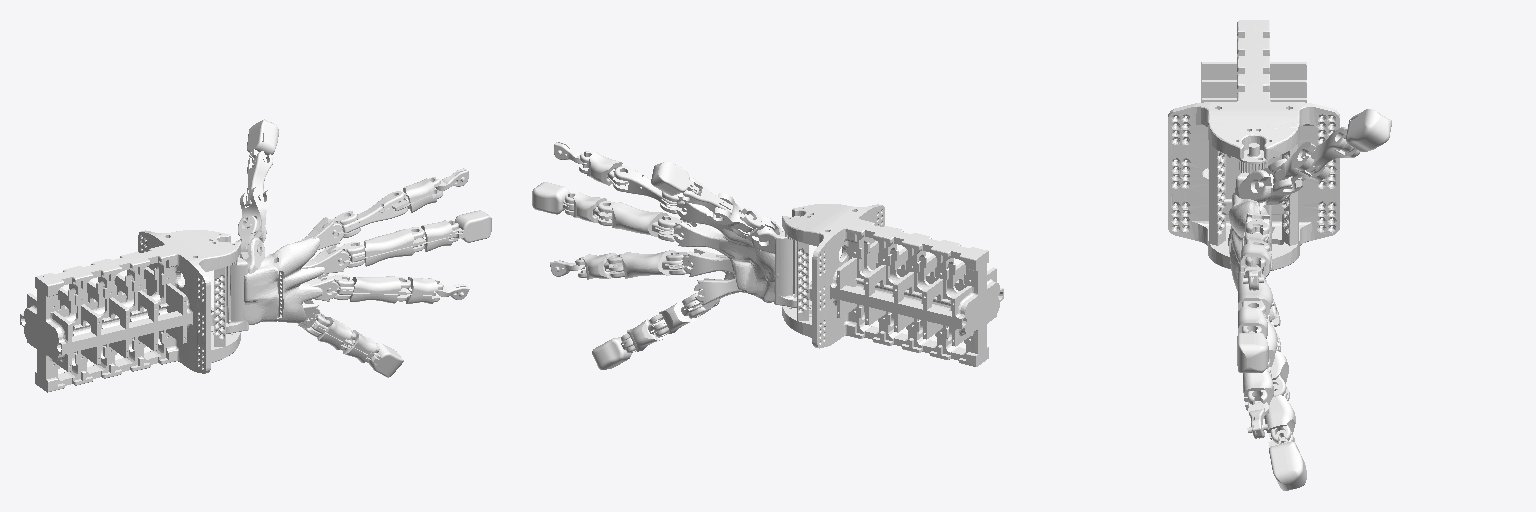
--- What the picture shows (computed from the rendered views, not written in the file) ---
Views: 3 orthographic renders of the robot side by side, from view 1: azimuth 30°, elevation 25°; view 2: azimuth 150°, elevation 25°; view 3: azimuth 270°, elevation 25°.
Robot: converted_robot — 57 links, 56 joints (21 revolute, 35 fixed); root link world; default pose: every joint at zero.
Links seen in each view (by area): view 1: tower, palm, middle_pp, ring_pp, index_mp, index_pp, middle_dp, thumb_dp, middle_mp, thumb_pp, ring_mp, pinky_pp (+4 smaller); view 2: tower, palm, middle_pp, ring_pp, thumb_dp, index_mp, middle_dp, index_pp, pinky_pp, pinky_dp, middle_mp, ring_mp (+4 smaller); view 3: tower, palm, pinky_dp, thumb_dp, middle_dp, thumb_pp, pinky_mp, thumb_mp, ring_mp, middle_pp, thumb_base, index_mp (+2 smaller).
Link boxes in pixels (box(x1,y1,x2,y2)): tower: box(20, 230, 240, 392); palm: box(217, 217, 349, 333); middle_pp: box(349, 227, 424, 266); ring_pp: box(336, 276, 410, 303); index_mp: box(392, 177, 442, 212); index_pp: box(342, 191, 407, 232); middle_dp: box(449, 210, 491, 242); thumb_dp: box(247, 119, 278, 166); middle_mp: box(413, 220, 458, 251); thumb_pp: box(240, 186, 271, 238); ring_mp: box(398, 277, 443, 303); pinky_pp: box(311, 317, 355, 350); tower: box(782, 204, 1003, 366); palm: box(673, 201, 801, 307); middle_pp: box(598, 201, 673, 236); ring_pp: box(607, 250, 683, 278); thumb_dp: box(651, 161, 698, 195); index_mp: box(579, 151, 628, 185); middle_dp: box(532, 182, 573, 214); index_pp: box(613, 166, 676, 207); pinky_pp: box(649, 298, 701, 337); pinky_dp: box(592, 337, 633, 369); middle_mp: box(565, 192, 611, 222); ring_mp: box(575, 253, 623, 279); tower: box(1168, 20, 1339, 270); palm: box(1228, 143, 1286, 326); pinky_dp: box(1268, 430, 1306, 490); thumb_dp: box(1340, 109, 1391, 152); middle_dp: box(1237, 331, 1268, 372); thumb_pp: box(1271, 142, 1330, 188); pinky_mp: box(1264, 384, 1295, 443); thumb_mp: box(1301, 127, 1360, 173); ring_mp: box(1243, 367, 1273, 415); middle_pp: box(1238, 271, 1272, 318); thumb_base: box(1255, 158, 1302, 202); index_mp: box(1240, 244, 1270, 280).
Size in the robot's own frame: 0.359 by 0.1224 by 0.1947 metres.
22 mesh visuals loaded from 22 distinct referenced files (22 binary STL).

The robot description file, URDF, robot "converted_robot":
<?xml version="1.0" ?>
<robot name="converted_robot">
   <link name="world">
      <inertial>
         <origin xyz="0.0 0.0 0.0" rpy="0.0 0.0 0.0"/>
         <mass value="0.0"/>
         <inertia ixx="0.0" iyy="0.0" izz="0.0" ixy="0" ixz="0" iyz="0"/>
      </inertial>
   </link>
   <link name="root">
      <inertial>
         <origin xyz="0.0 0.0 0.0" rpy="0.0 0.0 0.0"/>
         <mass value="0.0"/>
         <inertia ixx="0.0" iyy="0.0" izz="0.0" ixy="0" ixz="0" iyz="0"/>
      </inertial>
   </link>
   <link name="world2root_fixed_jointbody">
      <inertial>
         <origin xyz="0.0 0.0 0.0" rpy="0.0 0.0 0.0"/>
         <mass value="0.001"/>
         <inertia ixx="1e-09" iyy="1e-09" izz="1e-09" ixy="0" ixz="0" iyz="0"/>
      </inertial>
   </link>
   <joint type="fixed" name="world2root_fixed">
      <parent link="world"/>
      <child link="world2root_fixed_jointbody"/>
      <origin xyz="0.0 0.0 0.0" rpy="0.0 0.0 0.0"/>
   </joint>
   <joint type="fixed" name="world2root_fixed_offset">
      <parent link="world2root_fixed_jointbody"/>
      <child link="root"/>
      <origin xyz="-0.0 -0.0 -0.0" rpy="0.0 0.0 0.0"/>
   </joint>
   <link name="tower">
      <inertial>
         <origin xyz="0.06437901782600965 1.780279318620321e-05 -0.0003231375226686683" rpy="1.5837086827349487 -0.0029817795619724308 1.5715354932140642"/>
         <mass value="1.1686649766962816"/>
         <inertia ixx="0.0019657087041747615" iyy="0.0017826228325031161" izz="0.0006871001143970954" ixy="0" ixz="0" iyz="0"/>
      </inertial>
      <visual name="tower">
         <origin xyz="0.06437901782600965 1.780279318620321e-05 -0.0003231375226686683" rpy="1.5837086827349485 -0.0029817795619724308 1.5715354932140644"/>
         <geometry>
            <mesh filename="package://viz/models/orca2_hand/urdf/converted_tower.stl"/>
         </geometry>
         <material name="white"/>
      </visual>
   </link>
   <link name="root2tower_fixed_jointbody">
      <inertial>
         <origin xyz="0.0 0.0 0.0" rpy="0.0 0.0 0.0"/>
         <mass value="0.001"/>
         <inertia ixx="1e-09" iyy="1e-09" izz="1e-09" ixy="0" ixz="0" iyz="0"/>
      </inertial>
   </link>
   <joint type="fixed" name="root2tower_fixed">
      <parent link="root"/>
      <child link="root2tower_fixed_jointbody"/>
      <origin xyz="0.0 0.0 0.0" rpy="0.0 0.0 0.0"/>
   </joint>
   <joint type="fixed" name="root2tower_fixed_offset">
      <parent link="root2tower_fixed_jointbody"/>
      <child link="tower"/>
      <origin xyz="-0.0 -0.0 -0.0" rpy="0.0 0.0 0.0"/>
   </joint>
   <link name="palm">
      <inertial>
         <origin xyz="0.0031931161538907675 -0.0006744956817974197 -0.015141641629351442" rpy="0.11369803949052038 0.0015109688649919129 1.5487764199118472"/>
         <mass value="0.15922386065672636"/>
         <inertia ixx="0.00012041487596921829" iyy="8.59196043876551e-05" izz="4.1572032560976865e-05" ixy="0" ixz="0" iyz="0"/>
      </inertial>
      <visual name="palm_tower">
         <origin xyz="0.0031931161538907675 -0.0006744956817974197 -0.015141641629351442" rpy="0.11369803949052038 0.001510968864992135 1.5487764199118472"/>
         <geometry>
            <mesh filename="package://viz/models/orca2_hand/urdf/converted_palm_tower.stl"/>
         </geometry>
         <material name="white"/>
      </visual>
   </link>
   <link name="tower2root_jointbody">
      <inertial>
         <origin xyz="0.0 0.0 0.0" rpy="0.0 0.0 0.0"/>
         <mass value="0.001"/>
         <inertia ixx="1e-09" iyy="1e-09" izz="1e-09" ixy="0" ixz="0" iyz="0"/>
      </inertial>
   </link>
   <joint type="revolute" name="tower2root">
      <parent link="tower"/>
      <child link="tower2root_jointbody"/>
      <origin xyz="0.14400000000000007 6.085084693074894e-18 -2.8189256484623115e-17" rpy="0.0007373833650254783 1.5707963267948966 0.0"/>
      <axis xyz="0.9999999999999993 6.127748595140475e-17 6.118716649654125e-17"/>
      <limit lower="-1.3962634015954636" upper="1.3962634015954636" effort="100" velocity="100"/>
   </joint>
   <joint type="fixed" name="tower2root_offset">
      <parent link="tower2root_jointbody"/>
      <child link="palm"/>
      <origin xyz="-0.0019999999999999996 -1.0164395367051604e-20 0.04999999999999999" rpy="0.0 0.0 0.0"/>
   </joint>
   <link name="index_um">
      <inertial>
         <origin xyz="0.006732763304155957 4.001088863436687e-09 -2.0258619702217643e-05" rpy="-3.131684616200393 -1.561854856603541 -0.009908433449917098"/>
         <mass value="0.002607186033198995"/>
         <inertia ixx="1.3807074528604164e-07" iyy="1.1778104249469416e-07" izz="6.49217043247213e-08" ixy="0" ixz="0" iyz="0"/>
      </inertial>
      <visual name="index_um">
         <origin xyz="0.006732763304155957 4.001088863436687e-09 -2.0258619702217643e-05" rpy="-3.131684616200393 -1.561854856603541 -0.009908433449916876"/>
         <geometry>
            <mesh filename="package://viz/models/orca2_hand/urdf/converted_index_um.stl"/>
         </geometry>
         <material name="white"/>
      </visual>
   </link>
   <link name="index_abd_jointbody">
      <inertial>
         <origin xyz="0.0 0.0 0.0" rpy="0.0 0.0 0.0"/>
         <mass value="0.001"/>
         <inertia ixx="1e-09" iyy="1e-09" izz="1e-09" ixy="0" ixz="0" iyz="0"/>
      </inertial>
   </link>
   <joint type="revolute" name="index_abd">
      <parent link="palm"/>
      <child link="index_abd_jointbody"/>
      <origin xyz="-0.022026898291690793 0.0015684105070722376 0.035558225043043304" rpy="1.657989451174792 1.3961154673834115 -7.447055134812697e-05"/>
      <axis xyz="-1.80855330711438e-13 -2.220446049250313e-16 0.9999999999999967"/>
      <limit lower="-0.4363323129985824" upper="0.6108652381980153" effort="100" velocity="100"/>
   </joint>
   <joint type="fixed" name="index_abd_offset">
      <parent link="index_abd_jointbody"/>
      <child link="index_um"/>
      <origin xyz="-0.014399999999999979 -1.1275702593849246e-17 -4.7704895589362195e-18" rpy="0.0 0.0 0.0"/>
   </joint>
   <link name="index_pp">
      <inertial>
         <origin xyz="0.001028909009164022 -4.063769783948308e-06 0.02054690935172239" rpy="0.0004528001968630863 -0.017765403380045175 -0.030452017041297512"/>
         <mass value="0.01253208205763138"/>
         <inertia ixx="1.693790150208706e-06" iyy="1.687388366681519e-06" izz="3.6847130608302664e-07" ixy="0" ixz="0" iyz="0"/>
      </inertial>
      <visual name="index_pp">
         <origin xyz="0.001028909009164022 -4.063769783948308e-06 0.02054690935172239" rpy="0.0004528001968630863 -0.017765403380045175 -0.03045201704129752"/>
         <geometry>
            <mesh filename="package://viz/models/orca2_hand/urdf/converted_index_pp.stl"/>
         </geometry>
         <material name="white"/>
      </visual>
   </link>
   <link name="root2index_pp_jointbody">
      <inertial>
         <origin xyz="0.0 0.0 0.0" rpy="0.0 0.0 0.0"/>
         <mass value="0.001"/>
         <inertia ixx="1e-09" iyy="1e-09" izz="1e-09" ixy="0" ixz="0" iyz="0"/>
      </inertial>
   </link>
   <joint type="revolute" name="root2index_pp">
      <parent link="index_um"/>
      <child link="root2index_pp_jointbody"/>
      <origin xyz="-3.726525911802163e-14 1.5826592868386048e-13 -1.3897728001093473e-14" rpy="3.141592653571369 -1.568914097743692 -3.1415926535734324"/>
      <axis xyz="3.175237850427948e-14 -1.0000000000000018 -2.0646956366832114e-12"/>
      <limit lower="-0.17453292519943295" upper="2.007128639793479" effort="100" velocity="100"/>
   </joint>
   <joint type="fixed" name="root2index_pp_offset">
      <parent link="root2index_pp_jointbody"/>
      <child link="index_pp"/>
      <origin xyz="9.357535447968366e-19 9.360525909273759e-18 1.2460153634354755e-17" rpy="0.0 0.0 0.0"/>
   </joint>
   <link name="index_mp">
      <inertial>
         <origin xyz="0.0014457760100068154 8.307526209729058e-05 0.014984285891448386" rpy="0.030434030316509056 -0.009961283507679886 0.10995570955517174"/>
         <mass value="0.007256911934241935"/>
         <inertia ixx="4.939234421836949e-07" iyy="4.903790475873879e-07" izz="1.9645010163470517e-07" ixy="0" ixz="0" iyz="0"/>
      </inertial>
      <visual name="index_mp">
         <origin xyz="0.0014457760100068154 8.307526209729058e-05 0.014984285891448386" rpy="0.030434030316509056 -0.009961283507679886 0.10995570955517174"/>
         <geometry>
            <mesh filename="package://viz/models/orca2_hand/urdf/converted_index_mp.stl"/>
         </geometry>
         <material name="white"/>
      </visual>
   </link>
   <link name="index_pp2mp_jointbody">
      <inertial>
         <origin xyz="0.0 0.0 0.0" rpy="0.0 0.0 0.0"/>
         <mass value="0.001"/>
         <inertia ixx="1e-09" iyy="1e-09" izz="1e-09" ixy="0" ixz="0" iyz="0"/>
      </inertial>
   </link>
   <joint type="revolute" name="index_pp2mp">
      <parent link="index_pp"/>
      <child link="index_pp2mp_jointbody"/>
      <origin xyz="-4.092895317840004e-17 -2.263553056912248e-17 0.039999999999999904" rpy="-1.387778780781445e-17 -2.220446049250313e-16 2.311115933264683e-33"/>
      <axis xyz="1.0547118733938987e-15 -0.9999999999999989 -9.020562075079397e-16"/>
      <limit lower="0.0" upper="2.0943951023931953" effort="100" velocity="100"/>
   </joint>
   <joint type="fixed" name="index_pp2mp_offset">
      <parent link="index_pp2mp_jointbody"/>
      <child link="index_mp"/>
      <origin xyz="1.9461750163187066e-17 3.195966925249782e-17 5.1027793401258624e-17" rpy="0.0 0.0 0.0"/>
   </joint>
   <link name="index_dp">
      <inertial>
         <origin xyz="0.010962775970379684 -0.0009207287499492076 0.007029609248376971" rpy="0.0038044439296488486 0.009595151767842092 1.742992635465892"/>
         <mass value="0.009142007854382036"/>
         <inertia ixx="7.030009842186787e-07" iyy="6.96709959144247e-07" izz="2.9942656232517023e-07" ixy="0" ixz="0" iyz="0"/>
      </inertial>
      <visual name="index_dp">
         <origin xyz="0.010962775970379684 -0.0009207287499492076 0.007029609248376971" rpy="0.0038044439296489596 0.009595151767842092 1.7429926354658922"/>
         <geometry>
            <mesh filename="package://viz/models/orca2_hand/urdf/converted_index_dp.stl"/>
         </geometry>
         <material name="white"/>
      </visual>
   </link>
   <link name="index_mp2dp_jointbody">
      <inertial>
         <origin xyz="0.0 0.0 0.0" rpy="0.0 0.0 0.0"/>
         <mass value="0.001"/>
         <inertia ixx="1e-09" iyy="1e-09" izz="1e-09" ixy="0" ixz="0" iyz="0"/>
      </inertial>
   </link>
   <joint type="revolute" name="index_mp2dp">
      <parent link="index_mp"/>
      <child link="index_mp2dp_jointbody"/>
      <origin xyz="0.0009999999999999601 -4.683753385137379e-17 0.028000000000000004" rpy="-6.661338147750939e-16 8.881784197001252e-16 1.5707963267948974"/>
      <axis xyz="-0.9999999999999998 -1.1796119636642288e-16 -1.946657895643411e-15"/>
      <limit lower="0.0" upper="1.3089969389957472" effort="100" velocity="100"/>
   </joint>
   <joint type="fixed" name="index_mp2dp_offset">
      <parent link="index_mp2dp_jointbody"/>
      <child link="index_dp"/>
      <origin xyz="-0.01099999999999995 7.281470469246501e-06 0.009007281470469294" rpy="0.0 0.0 0.0"/>
   </joint>
   <link name="index_fingertip">
      <inertial>
         <origin xyz="0.0 0.02 -0.001306" rpy="0.0 0.0 0.0"/>
         <mass value="0.0"/>
         <inertia ixx="0.0" iyy="0.0" izz="0.0" ixy="0" ixz="0" iyz="0"/>
      </inertial>
   </link>
   <link name="index_dp2index_fingertip_fixed_jointbody">
      <inertial>
         <origin xyz="0.0 0.0 0.0" rpy="0.0 0.0 0.0"/>
         <mass value="0.001"/>
         <inertia ixx="1e-09" iyy="1e-09" izz="1e-09" ixy="0" ixz="0" iyz="0"/>
      </inertial>
   </link>
   <joint type="fixed" name="index_dp2index_fingertip_fixed">
      <parent link="index_dp"/>
      <child link="index_dp2index_fingertip_fixed_jointbody"/>
      <origin xyz="0.0 0.02 -0.001306" rpy="0.0 0.0 0.0"/>
   </joint>
   <joint type="fixed" name="index_dp2index_fingertip_fixed_offset">
      <parent link="index_dp2index_fingertip_fixed_jointbody"/>
      <child link="index_fingertip"/>
      <origin xyz="-0.0 -0.0 -0.0" rpy="0.0 0.0 0.0"/>
   </joint>
   <link name="pinky_um">
      <inertial>
         <origin xyz="0.006732763304155957 4.001088863436687e-09 -2.0258619702217643e-05" rpy="-3.131684616200393 -1.561854856603541 -0.009908433449917098"/>
         <mass value="0.002607186033198995"/>
         <inertia ixx="1.3807074528604164e-07" iyy="1.1778104249469416e-07" izz="6.49217043247213e-08" ixy="0" ixz="0" iyz="0"/>
      </inertial>
      <visual name="pinky_um">
         <origin xyz="0.006732763304155957 4.001088863436687e-09 -2.0258619702217643e-05" rpy="-3.131684616200393 -1.561854856603541 -0.009908433449916876"/>
         <geometry>
            <mesh filename="package://viz/models/orca2_hand/urdf/converted_pinky_um.stl"/>
         </geometry>
         <material name="white"/>
      </visual>
   </link>
   <link name="pinky_abd_jointbody">
      <inertial>
         <origin xyz="0.0 0.0 0.0" rpy="0.0 0.0 0.0"/>
         <mass value="0.001"/>
         <inertia ixx="1e-09" iyy="1e-09" izz="1e-09" ixy="0" ixz="0" iyz="0"/>
      </inertial>
   </link>
   <joint type="revolute" name="pinky_abd">
      <parent link="palm"/>
      <child link="pinky_abd_jointbody"/>
      <origin xyz="0.04123255613565277 0.005128234212297354 0.015805277968103645" rpy="-1.5799161189708797 0.9071946146015462 -2.8781819803477346"/>
      <axis xyz="-1.942890293094024e-16 6.661338147750939e-16 -1.0000000000000004"/>
      <limit lower="-0.6108652381980153" upper="0.4363323129985824" effort="100" velocity="100"/>
   </joint>
   <joint type="fixed" name="pinky_abd_offset">
      <parent link="pinky_abd_jointbody"/>
      <child link="pinky_um"/>
      <origin xyz="-0.014400000000000012 2.211772431870429e-17 -1.5178830414797062e-17" rpy="0.0 0.0 0.0"/>
   </joint>
   <link name="pinky_pp">
      <inertial>
         <origin xyz="0.0011081239410495802 -6.835791393050442e-07 0.016046375623555865" rpy="0.0013778191143609397 -0.0356616612010936 -0.04982590931331974"/>
         <mass value="0.009193689280540233"/>
         <inertia ixx="8.415561519046092e-07" iyy="8.352213456647945e-07" izz="2.602923288447009e-07" ixy="0" ixz="0" iyz="0"/>
      </inertial>
      <visual name="pinky_pp">
         <origin xyz="0.0011081239410495802 -6.835791393050442e-07 0.016046375623555865" rpy="0.0013778191143609397 -0.0356616612010936 -0.04982590931331974"/>
         <geometry>
            <mesh filename="package://viz/models/orca2_hand/urdf/converted_pinky_pp.stl"/>
         </geometry>
         <material name="white"/>
      </visual>
   </link>
   <link name="root2pinky_pp_jointbody">
      <inertial>
         <origin xyz="0.0 0.0 0.0" rpy="0.0 0.0 0.0"/>
         <mass value="0.001"/>
         <inertia ixx="1e-09" iyy="1e-09" izz="1e-09" ixy="0" ixz="0" iyz="0"/>
      </inertial>
   </link>
   <joint type="revolute" name="root2pinky_pp">
      <parent link="pinky_um"/>
      <child link="root2pinky_pp_jointbody"/>
      <origin xyz="3.525016089636266e-17 -3.1056381288997515e-19 2.7390067716395695e-17" rpy="3.141592653589439 -1.5692446522906773 -3.141592653589439"/>
      <axis xyz="-3.885780586188048e-16 -1.0000000000000004 -2.636779683484747e-16"/>
      <limit lower="-0.17453292519943295" upper="2.007128639793479" effort="100" velocity="100"/>
   </joint>
   <joint type="fixed" name="root2pinky_pp_offset">
      <parent link="root2pinky_pp_jointbody"/>
      <child link="pinky_pp"/>
      <origin xyz="-3.833184058085544e-18 7.922763782835389e-18 1.4973823299787632e-17" rpy="0.0 0.0 0.0"/>
   </joint>
   <link name="pinky_mp">
      <inertial>
         <origin xyz="0.0014457760100068154 8.307526209729058e-05 0.014984285891448386" rpy="0.030434030316509056 -0.009961283507679886 0.10995570955517174"/>
         <mass value="0.007256911934241935"/>
         <inertia ixx="4.939234421836949e-07" iyy="4.903790475873879e-07" izz="1.9645010163470517e-07" ixy="0" ixz="0" iyz="0"/>
      </inertial>
      <visual name="pinky_mp">
         <origin xyz="0.0014457760100068154 8.307526209729058e-05 0.014984285891448386" rpy="0.030434030316509056 -0.009961283507679886 0.10995570955517174"/>
         <geometry>
            <mesh filename="package://viz/models/orca2_hand/urdf/converted_pinky_mp.stl"/>
         </geometry>
         <material name="white"/>
      </visual>
   </link>
   <link name="pinky_pp2mp_jointbody">
      <inertial>
         <origin xyz="0.0 0.0 0.0" rpy="0.0 0.0 0.0"/>
         <mass value="0.001"/>
         <inertia ixx="1e-09" iyy="1e-09" izz="1e-09" ixy="0" ixz="0" iyz="0"/>
      </inertial>
   </link>
   <joint type="revolute" name="pinky_pp2mp">
      <parent link="pinky_pp"/>
      <child link="pinky_pp2mp_jointbody"/>
      <origin xyz="-2.02538279309526e-17 -3.2474578016063654e-17 0.03000000000000008" rpy="-5.551115123125783e-17 0.0 0.0"/>
      <axis xyz="-4.440892098500626e-16 -1.0000000000000004 -8.326672684688674e-17"/>
      <limit lower="0.0" upper="2.0943951023931953" effort="100" velocity="100"/>
   </joint>
   <joint type="fixed" name="pinky_pp2mp_offset">
      <parent link="pinky_pp2mp_jointbody"/>
      <child link="pinky_mp"/>
      <origin xyz="1.171869695207721e-18 -8.725104538385514e-18 -2.4424879789821522e-17" rpy="0.0 0.0 0.0"/>
   </joint>
   <link name="pinky_dp">
      <inertial>
         <origin xyz="0.010962775970379684 -0.0009207287499492076 0.007029609248376971" rpy="0.0038044439296488486 0.009595151767842092 1.742992635465892"/>
         <mass value="0.009142007854382036"/>
         <inertia ixx="7.030009842186787e-07" iyy="6.96709959144247e-07" izz="2.9942656232517023e-07" ixy="0" ixz="0" iyz="0"/>
      </inertial>
      <visual name="pinky_dp">
         <origin xyz="0.010962775970379684 -0.0009207287499492076 0.007029609248376971" rpy="0.0038044439296489596 0.009595151767842092 1.7429926354658922"/>
         <geometry>
            <mesh filename="package://viz/models/orca2_hand/urdf/converted_pinky_dp.stl"/>
         </geometry>
         <material name="white"/>
      </visual>
   </link>
   <link name="pinky_mp2dp_jointbody">
      <inertial>
         <origin xyz="0.0 0.0 0.0" rpy="0.0 0.0 0.0"/>
         <mass value="0.001"/>
         <inertia ixx="1e-09" iyy="1e-09" izz="1e-09" ixy="0" ixz="0" iyz="0"/>
      </inertial>
   </link>
   <joint type="revolute" name="pinky_mp2dp">
      <parent link="pinky_mp"/>
      <child link="pinky_mp2dp_jointbody"/>
      <origin xyz="0.0010000000000103548 -1.148039996401451e-14 0.02799999999999978" rpy="1.7696955012524995e-13 -1.5853984791647235e-13 1.5707963267948981"/>
      <axis xyz="-0.9999999999999996 2.3037127760972e-15 1.584097436557741e-13"/>
      <limit lower="0.0" upper="1.3089969389957472" effort="100" velocity="100"/>
   </joint>
   <joint type="fixed" name="pinky_mp2dp_offset">
      <parent link="pinky_mp2dp_jointbody"/>
      <child link="pinky_dp"/>
      <origin xyz="-0.011000000000000044 7.281470469290411e-06 0.00900728147046922" rpy="0.0 0.0 0.0"/>
   </joint>
   <link name="pinky_fingertip">
      <inertial>
         <origin xyz="0.0 0.02 -0.001306" rpy="0.0 0.0 0.0"/>
         <mass value="0.0"/>
         <inertia ixx="0.0" iyy="0.0" izz="0.0" ixy="0" ixz="0" iyz="0"/>
      </inertial>
   </link>
   <link name="pinky_dp2pinky_fingertip_fixed_jointbody">
      <inertial>
         <origin xyz="0.0 0.0 0.0" rpy="0.0 0.0 0.0"/>
         <mass value="0.001"/>
         <inertia ixx="1e-09" iyy="1e-09" izz="1e-09" ixy="0" ixz="0" iyz="0"/>
      </inertial>
   </link>
   <joint type="fixed" name="pinky_dp2pinky_fingertip_fixed">
      <parent link="pinky_dp"/>
      <child link="pinky_dp2pinky_fingertip_fixed_jointbody"/>
      <origin xyz="0.0 0.02 -0.001306" rpy="0.0 0.0 0.0"/>
   </joint>
   <joint type="fixed" name="pinky_dp2pinky_fingertip_fixed_offset">
      <parent link="pinky_dp2pinky_fingertip_fixed_jointbody"/>
      <child link="pinky_fingertip"/>
      <origin xyz="-0.0 -0.0 -0.0" rpy="0.0 0.0 0.0"/>
   </joint>
   <link name="ring_um">
      <inertial>
         <origin xyz="0.006732763304155957 4.001088863436687e-09 -2.0258619702217643e-05" rpy="-3.131684616200393 -1.561854856603541 -0.009908433449917098"/>
         <mass value="0.002607186033198995"/>
         <inertia ixx="1.3807074528604164e-07" iyy="1.1778104249469416e-07" izz="6.49217043247213e-08" ixy="0" ixz="0" iyz="0"/>
      </inertial>
      <visual name="ring_um">
         <origin xyz="0.006732763304155957 4.001088863436687e-09 -2.0258619702217643e-05" rpy="-3.131684616200393 -1.561854856603541 -0.009908433449916876"/>
         <geometry>
            <mesh filename="package://viz/models/orca2_hand/urdf/converted_ring_um.stl"/>
         </geometry>
         <material name="white"/>
      </visual>
   </link>
   <link name="ring_abd_jointbody">
      <inertial>
         <origin xyz="0.0 0.0 0.0" rpy="0.0 0.0 0.0"/>
         <mass value="0.001"/>
         <inertia ixx="1e-09" iyy="1e-09" izz="1e-09" ixy="0" ixz="0" iyz="0"/>
      </inertial>
   </link>
   <joint type="revolute" name="ring_abd">
      <parent link="palm"/>
      <child link="ring_abd_jointbody"/>
      <origin xyz="0.019694864162417412 0.0013825982229840321 0.030586364349873787" rpy="-1.5707963267948921 1.3088618425821554 -3.054326190990074"/>
      <axis xyz="-8.004708007547379e-14 -1.9984014443252818e-14 0.9999999999999978"/>
      <limit lower="-0.4363323129985824" upper="0.6108652381980153" effort="100" velocity="100"/>
   </joint>
   <joint type="fixed" name="ring_abd_offset">
      <parent link="ring_abd_jointbody"/>
      <child link="ring_um"/>
      <origin xyz="-0.014400000000000029 3.5561831257524545e-17 8.239936510889834e-18" rpy="0.0 0.0 0.0"/>
   </joint>
   <link name="ring_pp">
      <inertial>
         <origin xyz="0.0008060372442654997 -2.635575618623248e-06 0.025309358745536116" rpy="-0.01791413400350872 0.00043408652954268767 1.579449867412698"/>
         <mass value="0.015838995744240178"/>
         <inertia ixx="2.9142748363999414e-06" iyy="2.881065309255171e-06" izz="4.6634203018917616e-07" ixy="0" ixz="0" iyz="0"/>
      </inertial>
      <visual name="ring_pp">
         <origin xyz="0.0008060372442654997 -2.635575618623248e-06 0.025309358745536116" rpy="-0.01791413400350872 0.00043408652954268767 1.579449867412698"/>
         <geometry>
            <mesh filename="package://viz/models/orca2_hand/urdf/converted_ring_pp.stl"/>
         </geometry>
         <material name="white"/>
      </visual>
   </link>
   <link name="root2ring_pp_jointbody">
      <inertial>
         <origin xyz="0.0 0.0 0.0" rpy="0.0 0.0 0.0"/>
         <mass value="0.001"/>
         <inertia ixx="1e-09" iyy="1e-09" izz="1e-09" ixy="0" ixz="0" iyz="0"/>
      </inertial>
   </link>
   <joint type="revolute" name="root2ring_pp">
      <parent link="ring_um"/>
      <child link="root2ring_pp_jointbody"/>
      <origin xyz="8.76421389591046e-16 -6.591883351625457e-14 -5.609920274269105e-15" rpy="3.1415926535778085 -1.5690952335036443 -3.1415926535768572"/>
      <axis xyz="2.1538326677728037e-14 -1.0000000000000016 9.536885170469134e-13"/>
      <limit lower="-0.17453292519943295" upper="2.007128639793479" effort="100" velocity="100"/>
   </joint>
   <joint type="fixed" name="root2ring_pp_offset">
      <parent link="root2ring_pp_jointbody"/>
      <child link="ring_pp"/>
      <origin xyz="-9.795286269233676e-19 -1.4465518891423126e-19 1.4329772049885697e-17" rpy="0.0 0.0 0.0"/>
   </joint>
   <link name="ring_mp">
      <inertial>
         <origin xyz="0.0014457760100068154 8.307526209729058e-05 0.014984285891448386" rpy="0.030434030316509056 -0.009961283507679886 0.10995570955517174"/>
         <mass value="0.007256911934241935"/>
         <inertia ixx="4.939234421836949e-07" iyy="4.903790475873879e-07" izz="1.9645010163470517e-07" ixy="0" ixz="0" iyz="0"/>
      </inertial>
      <visual name="ring_mp">
         <origin xyz="0.0014457760100068154 8.307526209729058e-05 0.014984285891448386" rpy="0.030434030316509056 -0.009961283507679886 0.10995570955517174"/>
         <geometry>
            <mesh filename="package://viz/models/orca2_hand/urdf/converted_ring_mp.stl"/>
         </geometry>
         <material name="white"/>
      </visual>
   </link>
   <link name="ring_pp2mp_jointbody">
      <inertial>
         <origin xyz="0.0 0.0 0.0" rpy="0.0 0.0 0.0"/>
         <mass value="0.001"/>
         <inertia ixx="1e-09" iyy="1e-09" izz="1e-09" ixy="0" ixz="0" iyz="0"/>
      </inertial>
   </link>
   <joint type="revolute" name="ring_pp2mp">
      <parent link="ring_pp"/>
      <child link="ring_pp2mp_jointbody"/>
      <origin xyz="1.6557794334752767e-17 1.0283099349852077e-16 0.048000000000000105" rpy="-8.326672684688684e-17 4.440892098500626e-16 -4.440892098500627e-16"/>
      <axis xyz="5.551115123125783e-17 -0.9999999999999998 1.6514567491299204e-15"/>
      <limit lower="0.0" upper="2.0943951023931953" effort="100" velocity="100"/>
   </joint>
   <joint type="fixed" name="ring_pp2mp_offset">
      <parent link="ring_pp2mp_jointbody"/>
      <child link="ring_mp"/>
      <origin xyz="-2.4797730845642552e-17 -9.545841872561936e-17 -2.5561932479781495e-17" rpy="0.0 0.0 0.0"/>
   </joint>
   <link name="ring_dp">
      <inertial>
         <origin xyz="0.010962775970379684 -0.0009207287499492076 0.007029609248376971" rpy="0.0038044439296488486 0.009595151767842092 1.742992635465892"/>
         <mass value="0.009142007854382036"/>
         <inertia ixx="7.030009842186787e-07" iyy="6.96709959144247e-07" izz="2.9942656232517023e-07" ixy="0" ixz="0" iyz="0"/>
      </inertial>
      <visual name="ring_dp">
         <origin xyz="0.010962775970379684 -0.0009207287499492076 0.007029609248376971" rpy="0.0038044439296489596 0.009595151767842092 1.7429926354658922"/>
         <geometry>
            <mesh filename="package://viz/models/orca2_hand/urdf/converted_ring_dp.stl"/>
         </geometry>
         <material name="white"/>
      </visual>
   </link>
   <link name="ring_mp2dp_jointbody">
      <inertial>
         <origin xyz="0.0 0.0 0.0" rpy="0.0 0.0 0.0"/>
         <mass value="0.001"/>
         <inertia ixx="1e-09" iyy="1e-09" izz="1e-09" ixy="0" ixz="0" iyz="0"/>
      </inertial>
   </link>
   <joint type="revolute" name="ring_mp2dp">
      <parent link="ring_mp"/>
      <child link="ring_mp2dp_jointbody"/>
      <origin xyz="0.0010000000000000247 1.5785983631388945e-16 0.02800000000000006" rpy="-1.4432899320127035e-15 -2.886579864025407e-15 1.570796326794897"/>
      <axis xyz="-1.0000000000000004 9.71445146547012e-17 4.7009379895712744e-15"/>
      <limit lower="0.0" upper="1.3089969389957472" effort="100" velocity="100"/>
   </joint>
   <joint type="fixed" name="ring_mp2dp_offset">
      <parent link="ring_mp2dp_jointbody"/>
      <child link="ring_dp"/>
      <origin xyz="-0.011000000000000136 7.2814704693049395e-06 0.009007281470469263" rpy="0.0 0.0 0.0"/>
   </joint>
   <link name="ring_fingertip">
      <inertial>
         <origin xyz="0.0 0.02 -0.001306" rpy="0.0 0.0 0.0"/>
         <mass value="0.0"/>
         <inertia ixx="0.0" iyy="0.0" izz="0.0" ixy="0" ixz="0" iyz="0"/>
      </inertial>
   </link>
   <link name="ring_dp2ring_fingertip_fixed_jointbody">
      <inertial>
         <origin xyz="0.0 0.0 0.0" rpy="0.0 0.0 0.0"/>
         <mass value="0.001"/>
         <inertia ixx="1e-09" iyy="1e-09" izz="1e-09" ixy="0" ixz="0" iyz="0"/>
      </inertial>
   </link>
   <joint type="fixed" name="ring_dp2ring_fingertip_fixed">
      <parent link="ring_dp"/>
      <child link="ring_dp2ring_fingertip_fixed_jointbody"/>
      <origin xyz="0.0 0.02 -0.001306" rpy="0.0 0.0 0.0"/>
   </joint>
   <joint type="fixed" name="ring_dp2ring_fingertip_fixed_offset">
      <parent link="ring_dp2ring_fingertip_fixed_jointbody"/>
      <child link="ring_fingertip"/>
      <origin xyz="-0.0 -0.0 -0.0" rpy="0.0 0.0 0.0"/>
   </joint>
   <link name="thumb_base">
      <inertial>
         <origin xyz="0.008808869187580644 6.0539790788424805e-05 -6.227108387365731e-07" rpy="1.5867431449904335 -1.5487623466463896 1.5779915757952099"/>
         <mass value="0.004343232157026885"/>
         <inertia ixx="3.2542026380799935e-07" iyy="2.8172270770847253e-07" izz="1.4637236276937704e-07" ixy="0" ixz="0" iyz="0"/>
      </inertial>
      <visual name="thumb_base">
         <origin xyz="0.008808869187580644 6.0539790788424805e-05 -6.227108387365731e-07" rpy="1.5867431449904335 -1.5487623466463896 1.5779915757952099"/>
         <geometry>
            <mesh filename="package://viz/models/orca2_hand/urdf/converted_thumb_base.stl"/>
         </geometry>
         <material name="white"/>
      </visual>
   </link>
   <link name="root2thumb_base_jointbody">
      <inertial>
         <origin xyz="0.0 0.0 0.0" rpy="0.0 0.0 0.0"/>
         <mass value="0.001"/>
         <inertia ixx="1e-09" iyy="1e-09" izz="1e-09" ixy="0" ixz="0" iyz="0"/>
      </inertial>
   </link>
   <joint type="revolute" name="root2thumb_base">
      <parent link="palm"/>
      <child link="root2thumb_base_jointbody"/>
      <origin xyz="-0.01933668556029309 0.007354881795979843 -0.02738447811197526" rpy="-2.2765234291633645 0.5077476451224663 -0.8026267442856543"/>
      <axis xyz="1.1657341758564144e-15 -2.220446049250313e-15 -0.9999999999999962"/>
      <limit lower="-1.3089969389957472" upper="1.3089969389957472" effort="100" velocity="100"/>
   </joint>
   <joint type="fixed" name="root2thumb_base_offset">
      <parent link="root2thumb_base_jointbody"/>
      <child link="thumb_base"/>
      <origin xyz="-0.016900000000000366 -6.505213034913027e-17 -1.8106176280507924e-16" rpy="0.0 0.0 0.0"/>
   </joint>
   <link name="thumb_pp">
      <inertial>
         <origin xyz="0.0110035065603882 1.2140320581283004e-05 4.99089698308662e-06" rpy="1.5801938322395839 -1.3458483295749617 1.5649015598749747"/>
         <mass value="0.005082655147362075"/>
         <inertia ixx="5.315792864935883e-07" iyy="4.848428109529283e-07" izz="1.5884694021631092e-07" ixy="0" ixz="0" iyz="0"/>
      </inertial>
      <visual name="thumb_pp">
         <origin xyz="0.0110035065603882 1.2140320581283004e-05 4.99089698308662e-06" rpy="1.5801938322395845 -1.3458483295749617 1.564901559874974"/>
         <geometry>
            <mesh filename="package://viz/models/orca2_hand/urdf/converted_thumb_pp.stl"/>
         </geometry>
         <material name="white"/>
      </visual>
   </link>
   <link name="thumb_base2pp_jointbody">
      <inertial>
         <origin xyz="0.0 0.0 0.0" rpy="0.0 0.0 0.0"/>
         <mass value="0.001"/>
         <inertia ixx="1e-09" iyy="1e-09" izz="1e-09" ixy="0" ixz="0" iyz="0"/>
      </inertial>
   </link>
   <joint type="revolute" name="thumb_base2pp">
      <parent link="thumb_base"/>
      <child link="thumb_base2pp_jointbody"/>
      <origin xyz="6.696032617270475e-16 1.8030049447620726e-16 1.04077532652539e-16" rpy="2.0071286397934847 -2.4424906541753444e-15 -1.5543122344752192e-15"/>
      <axis xyz="1.0824674490095276e-15 -0.42261826174070033 -0.9063077870366472"/>
      <limit lower="-0.7853981633974483" upper="0.7853981633974483" effort="100" velocity="100"/>
   </joint>
   <joint type="fixed" name="thumb_base2pp_offset">
      <parent link="thumb_base2pp_jointbody"/>
      <child link="thumb_pp"/>
      <origin xyz="-0.023000000000001172 -9.367506770274758e-17 -3.499533562240087e-16" rpy="0.0 0.0 0.0"/>
   </joint>
   <link name="thumb_mp">
      <inertial>
         <origin xyz="0.0008671837157415993 3.6807067201715006e-05 0.014545771273496376" rpy="0.00077585773810393 -0.01657317387693391 0.012834020797146971"/>
         <mass value="0.004591034960824554"/>
         <inertia ixx="5.918485249131172e-07" iyy="5.836019355467322e-07" izz="9.196006074468986e-08" ixy="0" ixz="0" iyz="0"/>
      </inertial>
      <visual name="thumb_mp">
         <origin xyz="0.0008671837157415993 3.6807067201715006e-05 0.014545771273496376" rpy="0.00077585773810393 -0.01657317387693391 0.012834020797146971"/>
         <geometry>
            <mesh filename="package://viz/models/orca2_hand/urdf/converted_thumb_mp.stl"/>
         </geometry>
         <material name="white"/>
      </visual>
   </link>
   <link name="thumb_pp2mp_jointbody">
      <inertial>
         <origin xyz="0.0 0.0 0.0" rpy="0.0 0.0 0.0"/>
         <mass value="0.001"/>
         <inertia ixx="1e-09" iyy="1e-09" izz="1e-09" ixy="0" ixz="0" iyz="0"/>
      </inertial>
   </link>
   <joint type="revolute" name="thumb_pp2mp">
      <parent link="thumb_pp"/>
      <child link="thumb_pp2mp_jointbody"/>
      <origin xyz="1.0061975309744072e-15 1.5763860490676992e-16 6.475155218103694e-16" rpy="3.1415926535897905 1.5707963267948797 0.0"/>
      <axis xyz="-6.8833827526759706e-15 -0.9999999999999959 -7.993605777301127e-15"/>
      <limit lower="-0.17453292519943295" upper="1.5707963267948966" effort="100" velocity="100"/>
   </joint>
   <joint type="fixed" name="thumb_pp2mp_offset">
      <parent link="thumb_pp2mp_jointbody"/>
      <child link="thumb_mp"/>
      <origin xyz="-6.8988979146713415e-18 -2.155793885708645e-17 -2.0127088287987651e-16" rpy="0.0 0.0 0.0"/>
   </joint>
   <link name="thumb_dp">
      <inertial>
         <origin xyz="0.010962775970379684 -0.0009207287499492076 0.007029609248376971" rpy="0.0038044439296488486 0.009595151767842092 1.742992635465892"/>
         <mass value="0.009142007854382036"/>
         <inertia ixx="7.030009842186787e-07" iyy="6.96709959144247e-07" izz="2.9942656232517023e-07" ixy="0" ixz="0" iyz="0"/>
      </inertial>
      <visual name="thumb_dp">
         <origin xyz="0.010962775970379684 -0.0009207287499492076 0.007029609248376971" rpy="0.0038044439296489596 0.009595151767842092 1.7429926354658922"/>
         <geometry>
            <mesh filename="package://viz/models/orca2_hand/urdf/converted_thumb_dp.stl"/>
         </geometry>
         <material name="white"/>
      </visual>
   </link>
   <link name="thumb_mp2dp_jointbody">
      <inertial>
         <origin xyz="0.0 0.0 0.0" rpy="0.0 0.0 0.0"/>
         <mass value="0.001"/>
         <inertia ixx="1e-09" iyy="1e-09" izz="1e-09" ixy="0" ixz="0" iyz="0"/>
      </inertial>
   </link>
   <joint type="revolute" name="thumb_mp2dp">
      <parent link="thumb_mp"/>
      <child link="thumb_mp2dp_jointbody"/>
      <origin xyz="1.8258726914308424e-16 5.204170427930421e-16 0.029999999999999895" rpy="2.4424906541753444e-15 -1.2878587085651816e-14 1.5707963267948923"/>
      <axis xyz="-0.9999999999999958 2.9976021664879227e-15 5.287437154777308e-15"/>
      <limit lower="0.0" upper="1.57" effort="100" velocity="100"/>
   </joint>
   <joint type="fixed" name="thumb_mp2dp_offset">
      <parent link="thumb_mp2dp_jointbody"/>
      <child link="thumb_dp"/>
      <origin xyz="-0.011000000000000175 7.281470469432116e-06 0.009007281470469333" rpy="0.0 0.0 0.0"/>
   </joint>
   <link name="thumb_fingertip">
      <inertial>
         <origin xyz="0.0 0.02425 -0.001189" rpy="0.0 0.0 0.0"/>
         <mass value="0.0"/>
         <inertia ixx="0.0" iyy="0.0" izz="0.0" ixy="0" ixz="0" iyz="0"/>
      </inertial>
   </link>
   <link name="thumb_dp2thumb_fingertip_fixed_jointbody">
      <inertial>
         <origin xyz="0.0 0.0 0.0" rpy="0.0 0.0 0.0"/>
         <mass value="0.001"/>
         <inertia ixx="1e-09" iyy="1e-09" izz="1e-09" ixy="0" ixz="0" iyz="0"/>
      </inertial>
   </link>
   <joint type="fixed" name="thumb_dp2thumb_fingertip_fixed">
      <parent link="thumb_dp"/>
      <child link="thumb_dp2thumb_fingertip_fixed_jointbody"/>
      <origin xyz="0.0 0.02425 -0.001189" rpy="0.0 0.0 0.0"/>
   </joint>
   <joint type="fixed" name="thumb_dp2thumb_fingertip_fixed_offset">
      <parent link="thumb_dp2thumb_fingertip_fixed_jointbody"/>
      <child link="thumb_fingertip"/>
      <origin xyz="-0.0 -0.0 -0.0" rpy="0.0 0.0 0.0"/>
   </joint>
   <link name="middle_um">
      <inertial>
         <origin xyz="0.006732763304155957 4.001088863436687e-09 -2.0258619702217643e-05" rpy="-3.131684616200393 -1.561854856603541 -0.009908433449917098"/>
         <mass value="0.002607186033198995"/>
         <inertia ixx="1.3807074528604164e-07" iyy="1.1778104249469416e-07" izz="6.49217043247213e-08" ixy="0" ixz="0" iyz="0"/>
      </inertial>
      <visual name="middle_um">
         <origin xyz="0.006732763304155957 4.001088863436687e-09 -2.0258619702217643e-05" rpy="-3.131684616200393 -1.561854856603541 -0.009908433449916876"/>
         <geometry>
            <mesh filename="package://viz/models/orca2_hand/urdf/converted_middle_um.stl"/>
         </geometry>
         <material name="white"/>
      </visual>
   </link>
   <link name="middle_abd_jointbody">
      <inertial>
         <origin xyz="0.0 0.0 0.0" rpy="0.0 0.0 0.0"/>
         <mass value="0.001"/>
         <inertia ixx="1e-09" iyy="1e-09" izz="1e-09" ixy="0" ixz="0" iyz="0"/>
      </inertial>
   </link>
   <joint type="revolute" name="middle_abd">
      <parent link="palm"/>
      <child link="middle_abd_jointbody"/>
      <origin xyz="-0.0009621394664390548 2.7740667835757045e-18 0.03895854381555531" rpy="1.5707963267948966 1.5707963267948948 0.0"/>
      <axis xyz="1.3877787807814457e-15 1.1102230246251565e-16 0.9999999999999987"/>
      <limit lower="-0.4363323129985824" upper="0.6108652381980153" effort="100" velocity="100"/>
   </joint>
   <joint type="fixed" name="middle_abd_offset">
      <parent link="middle_abd_jointbody"/>
      <child link="middle_um"/>
      <origin xyz="-0.014400000000000015 -2.0816681711721685e-17 2.0383000842727483e-17" rpy="0.0 0.0 0.0"/>
   </joint>
   <link name="middle_pp">
      <inertial>
         <origin xyz="0.0008060372442654997 -2.635575618623248e-06 0.025309358745536116" rpy="-0.01791413400350872 0.00043408652954268767 1.579449867412698"/>
         <mass value="0.015838995744240178"/>
         <inertia ixx="2.9142748363999414e-06" iyy="2.881065309255171e-06" izz="4.6634203018917616e-07" ixy="0" ixz="0" iyz="0"/>
      </inertial>
      <visual name="middle_pp">
         <origin xyz="0.0008060372442654997 -2.635575618623248e-06 0.025309358745536116" rpy="-0.01791413400350872 0.00043408652954268767 1.579449867412698"/>
         <geometry>
            <mesh filename="package://viz/models/orca2_hand/urdf/converted_middle_pp.stl"/>
         </geometry>
         <material name="white"/>
      </visual>
   </link>
   <link name="root2middle_pp_jointbody">
      <inertial>
         <origin xyz="0.0 0.0 0.0" rpy="0.0 0.0 0.0"/>
         <mass value="0.001"/>
         <inertia ixx="1e-09" iyy="1e-09" izz="1e-09" ixy="0" ixz="0" iyz="0"/>
      </inertial>
   </link>
   <joint type="revolute" name="root2middle_pp">
      <parent link="middle_um"/>
      <child link="root2middle_pp_jointbody"/>
      <origin xyz="-2.7755588056615305e-17 2.7755575615628864e-17 6.638549052222253e-21" rpy="3.141592653589793 -1.5689702811526907 3.141592653589793"/>
      <axis xyz="-1.1102230246251565e-16 -1.0000000000000009 9.75781955236954e-18"/>
      <limit lower="-0.17453292519943295" upper="2.007128639793479" effort="100" velocity="100"/>
   </joint>
   <joint type="fixed" name="root2middle_pp_offset">
      <parent link="root2middle_pp_jointbody"/>
      <child link="middle_pp"/>
      <origin xyz="1.5108221092759517e-20 -9.7018720948507e-33 1.3877779583938463e-17" rpy="0.0 0.0 0.0"/>
   </joint>
   <link name="middle_mp">
      <inertial>
         <origin xyz="0.0014457760100068154 8.307526209729058e-05 0.014984285891448386" rpy="0.030434030316509056 -0.009961283507679886 0.10995570955517174"/>
         <mass value="0.007256911934241935"/>
         <inertia ixx="4.939234421836949e-07" iyy="4.903790475873879e-07" izz="1.9645010163470517e-07" ixy="0" ixz="0" iyz="0"/>
      </inertial>
      <visual name="middle_mp">
         <origin xyz="0.0014457760100068154 8.307526209729058e-05 0.014984285891448386" rpy="0.030434030316509056 -0.009961283507679886 0.10995570955517174"/>
         <geometry>
            <mesh filename="package://viz/models/orca2_hand/urdf/converted_middle_mp.stl"/>
         </geometry>
         <material name="white"/>
      </visual>
   </link>
   <link name="middle_pp2mp_jointbody">
      <inertial>
         <origin xyz="0.0 0.0 0.0" rpy="0.0 0.0 0.0"/>
         <mass value="0.001"/>
         <inertia ixx="1e-09" iyy="1e-09" izz="1e-09" ixy="0" ixz="0" iyz="0"/>
      </inertial>
   </link>
   <joint type="revolute" name="middle_pp2mp">
      <parent link="middle_pp"/>
      <child link="middle_pp2mp_jointbody"/>
      <origin xyz="-1.8151956462261382e-17 -2.3920210430460702e-18 0.048000000000000154" rpy="6.114900252818245e-17 0.0 0.0"/>
      <axis xyz="-1.6653345369377348e-16 -1.0000000000000004 9.75781955236954e-18"/>
      <limit lower="0.0" upper="2.0943951023931953" effort="100" velocity="100"/>
   </joint>
   <joint type="fixed" name="middle_pp2mp_offset">
      <parent link="middle_pp2mp_jointbody"/>
      <child link="middle_mp"/>
      <origin xyz="-6.817933558779142e-17 -6.938893903907302e-18 7.4224300060933e-20" rpy="0.0 0.0 0.0"/>
   </joint>
   <link name="middle_dp">
      <inertial>
         <origin xyz="0.010962775970379684 -0.0009207287499492076 0.007029609248376971" rpy="0.0038044439296488486 0.009595151767842092 1.742992635465892"/>
         <mass value="0.009142007854382036"/>
         <inertia ixx="7.030009842186787e-07" iyy="6.96709959144247e-07" izz="2.9942656232517023e-07" ixy="0" ixz="0" iyz="0"/>
      </inertial>
      <visual name="middle_dp">
         <origin xyz="0.010962775970379684 -0.0009207287499492076 0.007029609248376971" rpy="0.0038044439296489596 0.009595151767842092 1.7429926354658922"/>
         <geometry>
            <mesh filename="package://viz/models/orca2_hand/urdf/converted_middle_dp.stl"/>
         </geometry>
         <material name="white"/>
      </visual>
   </link>
   <link name="middle_mp2dp_jointbody">
      <inertial>
         <origin xyz="0.0 0.0 0.0" rpy="0.0 0.0 0.0"/>
         <mass value="0.001"/>
         <inertia ixx="1e-09" iyy="1e-09" izz="1e-09" ixy="0" ixz="0" iyz="0"/>
      </inertial>
   </link>
   <joint type="revolute" name="middle_mp2dp">
      <parent link="middle_mp"/>
      <child link="middle_mp2dp_jointbody"/>
      <origin xyz="0.0010000000000037676 -2.2551405187698492e-17 0.027999999999999955" rpy="4.551914400963142e-14 -4.440892098500626e-16 1.5707963267948966"/>
      <axis xyz="-1.0000000000000002 -3.2838929933875956e-17 5.315090385248316e-16"/>
      <limit lower="0.0" upper="1.3089969389957472" effort="100" velocity="100"/>
   </joint>
   <joint type="fixed" name="middle_mp2dp_offset">
      <parent link="middle_mp2dp_jointbody"/>
      <child link="middle_dp"/>
      <origin xyz="-0.011000000000000034 7.28147046937894e-06 0.009007281470469267" rpy="0.0 0.0 0.0"/>
   </joint>
   <link name="middle_fingertip">
      <inertial>
         <origin xyz="0.0 0.02 -0.001306" rpy="0.0 0.0 0.0"/>
         <mass value="0.0"/>
         <inertia ixx="0.0" iyy="0.0" izz="0.0" ixy="0" ixz="0" iyz="0"/>
      </inertial>
   </link>
   <link name="middle_dp2middle_fingertip_fixed_jointbody">
      <inertial>
         <origin xyz="0.0 0.0 0.0" rpy="0.0 0.0 0.0"/>
         <mass value="0.001"/>
         <inertia ixx="1e-09" iyy="1e-09" izz="1e-09" ixy="0" ixz="0" iyz="0"/>
      </inertial>
   </link>
   <joint type="fixed" name="middle_dp2middle_fingertip_fixed">
      <parent link="middle_dp"/>
      <child link="middle_dp2middle_fingertip_fixed_jointbody"/>
      <origin xyz="0.0 0.02 -0.001306" rpy="0.0 0.0 0.0"/>
   </joint>
   <joint type="fixed" name="middle_dp2middle_fingertip_fixed_offset">
      <parent link="middle_dp2middle_fingertip_fixed_jointbody"/>
      <child link="middle_fingertip"/>
      <origin xyz="-0.0 -0.0 -0.0" rpy="0.0 0.0 0.0"/>
   </joint>
   <material name="white">
      <color rgba="1 1 1 1"/>
   </material>
</robot>
